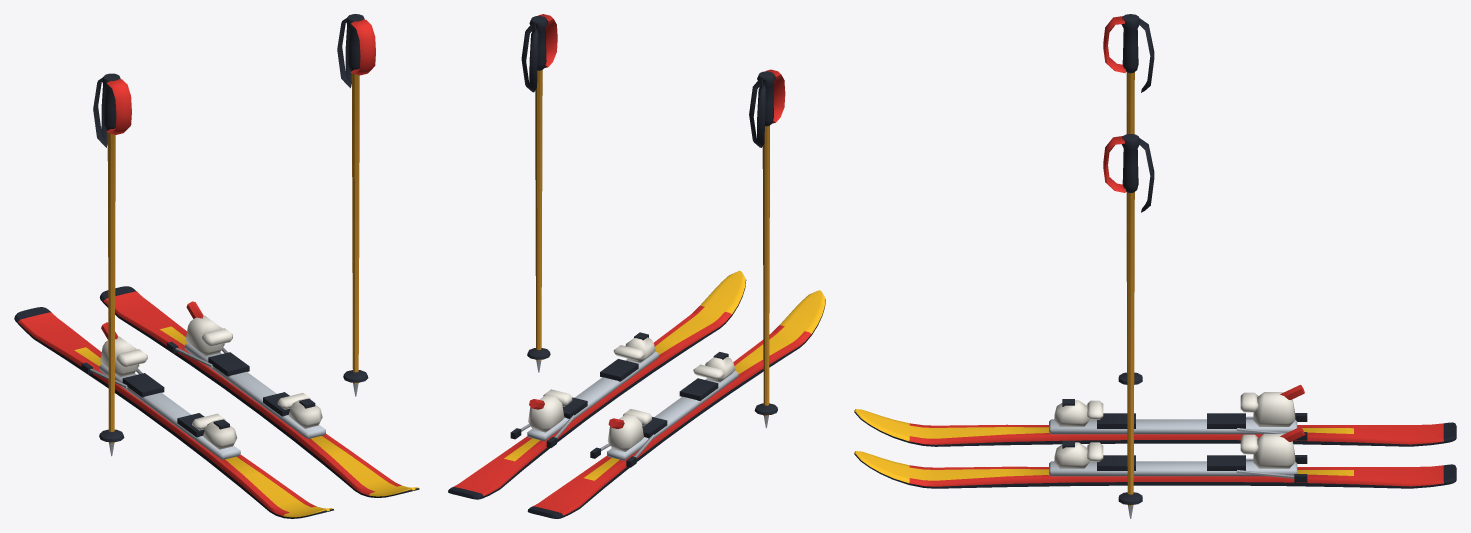
The model's file is skis.glb.
3 views of the same model, side by side, from view 1: azimuth 30°, elevation 25°; view 2: azimuth 150°, elevation 25°; view 3: azimuth 270°, elevation 25° (orthographic). The views are drawn at different scales.
Parts seen in each view (by area): view 1: SkiR, SkiL, PoleL, PoleR; view 2: SkiR, SkiL, PoleR, PoleL; view 3: SkiR, SkiL, PoleR, PoleL.
Part boxes in pixels (<box>): SkiR: <box>100,286,419,497</box>; SkiL: <box>14,307,333,518</box>; PoleL: <box>93,73,131,456</box>; PoleR: <box>337,14,375,396</box>; SkiR: <box>448,270,746,499</box>; SkiL: <box>527,290,825,518</box>; PoleR: <box>521,14,557,372</box>; PoleL: <box>749,69,785,428</box>; SkiR: <box>854,426,1456,488</box>; SkiL: <box>854,385,1456,446</box>; PoleR: <box>1103,134,1154,518</box>; PoleL: <box>1103,14,1154,384</box>.
Bounding box in the file's own units: 0.872 × 1.19 × 1.7.
